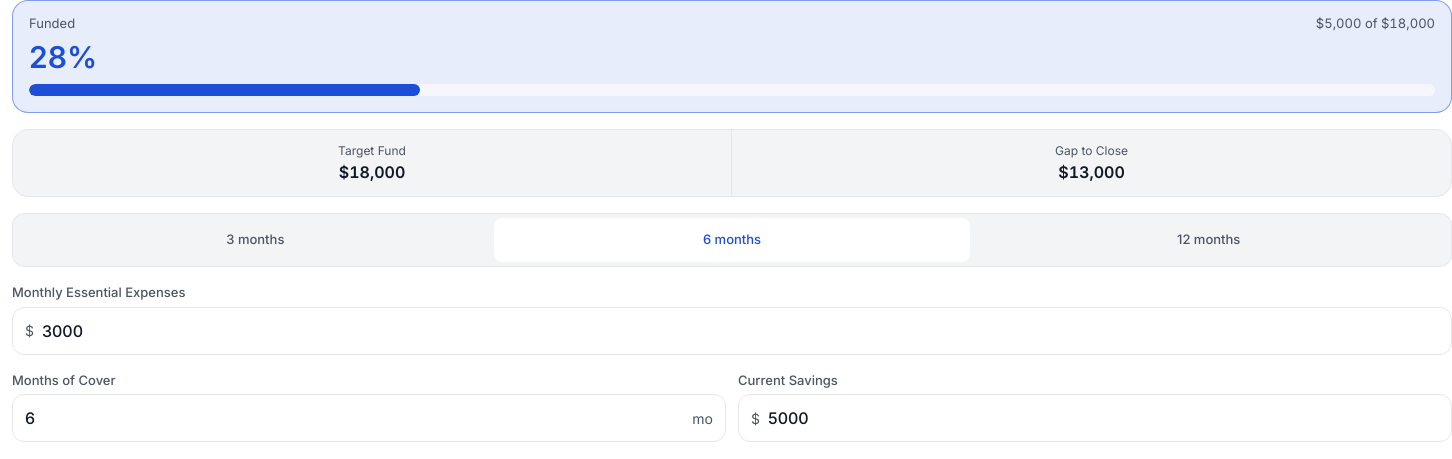
Test: updates the target when a months preset is chosen
Click the button "3 months".
click(255, 240)  # box [17,218,494,262]
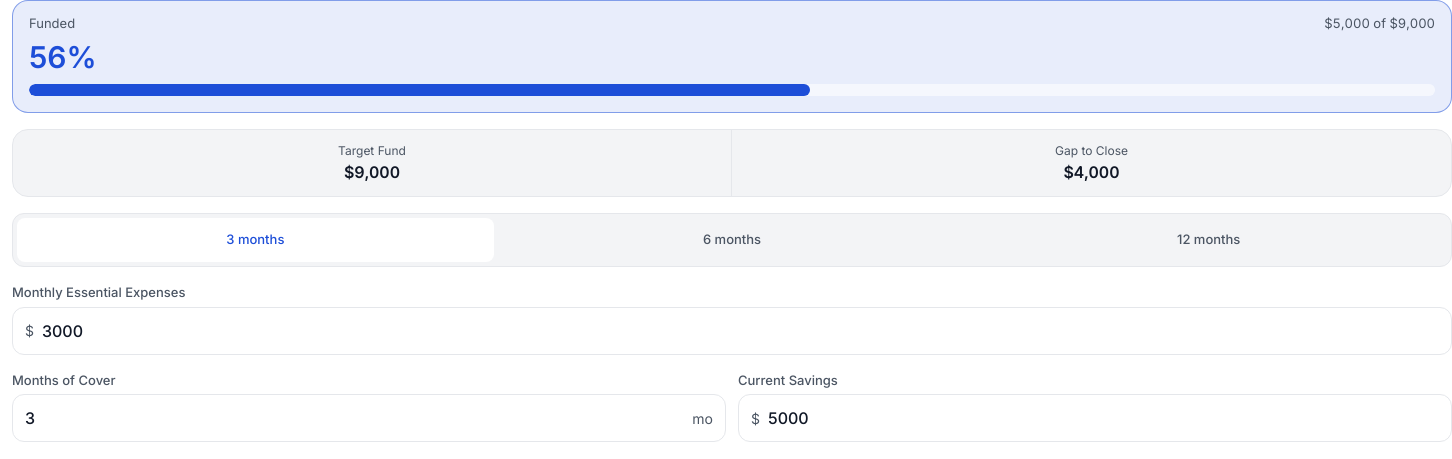
Expected: the text "$5,000 of $9,000" is shown, [1324,17,1435,30]
